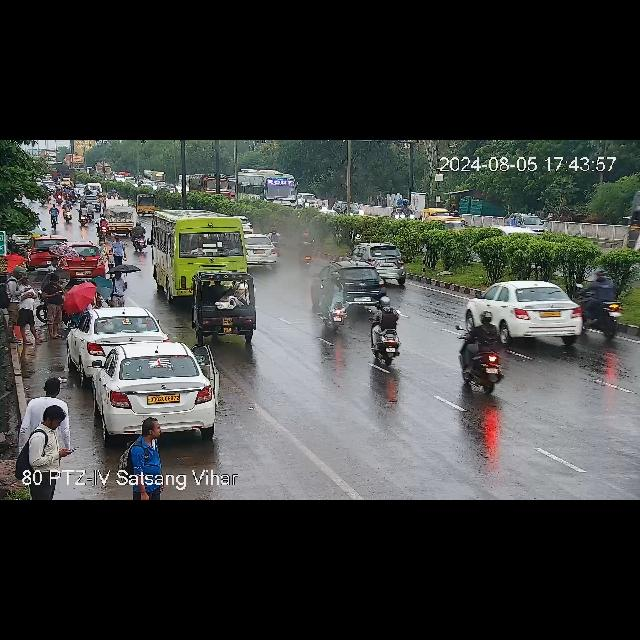bus: (152, 208, 250, 298), (238, 172, 298, 212), (65, 153, 87, 174), (142, 170, 166, 188), (96, 162, 112, 180), (42, 150, 58, 168)
car: (80, 338, 220, 438), (463, 280, 585, 344), (68, 305, 170, 365), (311, 262, 385, 304), (346, 244, 406, 286), (52, 242, 108, 280), (27, 235, 71, 269), (508, 211, 554, 235), (246, 234, 280, 266), (424, 214, 468, 232), (332, 202, 366, 218), (137, 194, 159, 216), (81, 194, 102, 210), (106, 192, 130, 205), (86, 183, 102, 195)
motorcycle: (462, 312, 508, 394), (578, 272, 620, 331), (369, 299, 401, 367), (317, 274, 349, 330), (298, 229, 314, 265), (131, 223, 149, 253), (95, 213, 111, 239), (62, 200, 72, 222), (78, 206, 88, 224), (56, 188, 62, 204), (70, 188, 76, 202)
person: (14, 403, 78, 499), (122, 418, 164, 499), (7, 273, 39, 343), (39, 274, 65, 336), (108, 269, 130, 305), (112, 239, 126, 265)
truck: (192, 271, 254, 337), (190, 172, 232, 200), (103, 206, 133, 232)
